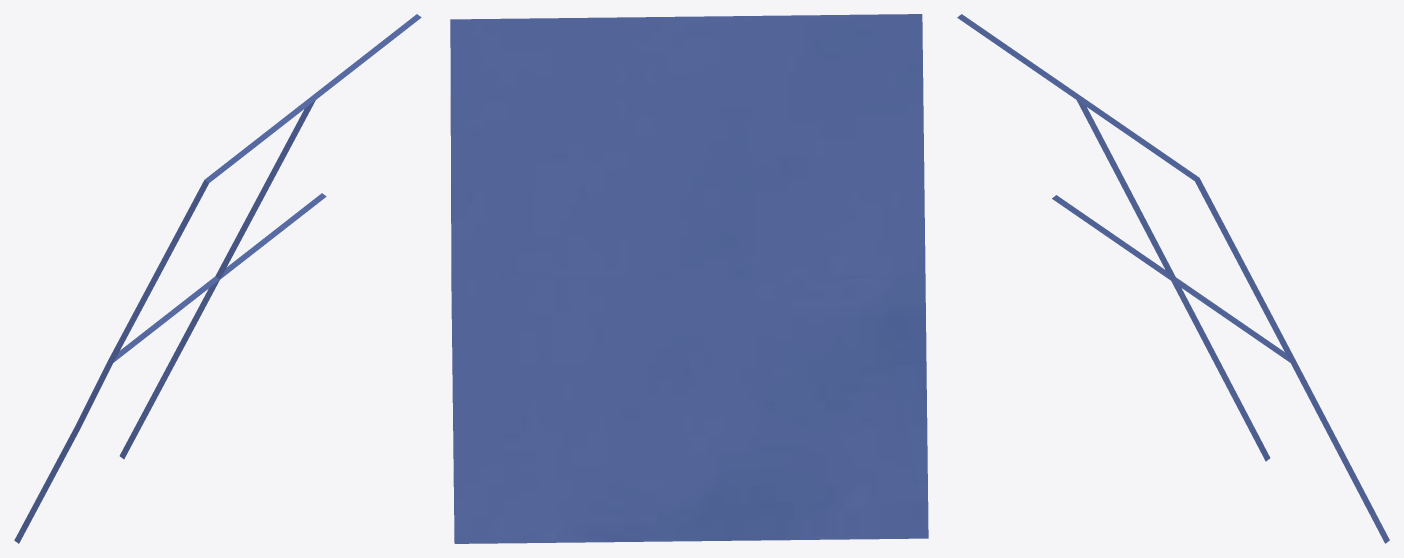
The picture shows the model from 3 angles, left to right: view 1: azimuth 30°, elevation 25°; view 2: azimuth 150°, elevation 25°; view 3: azimuth 270°, elevation 25°; orthographic projection. The views are drawn at different scales.
Size of the model in its own units: 19624 by 17747 by 16808.
Materials: 1 (1 with a texture image).
